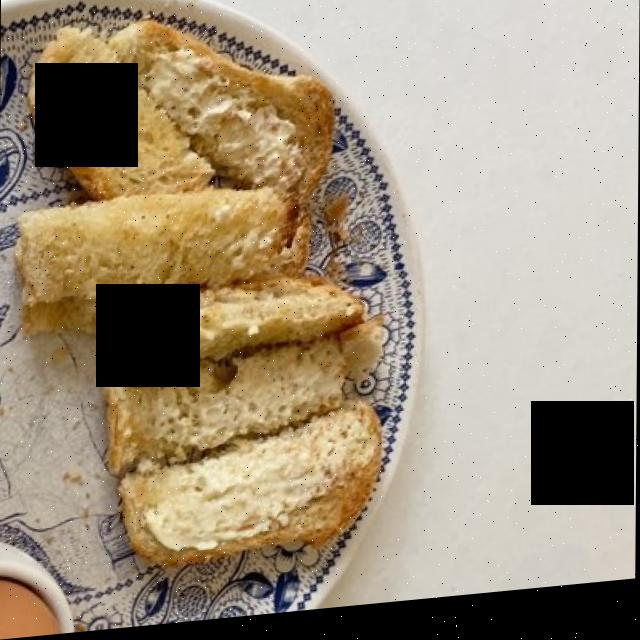bread-white: (14, 35, 386, 561)
butter: (139, 57, 365, 567)
